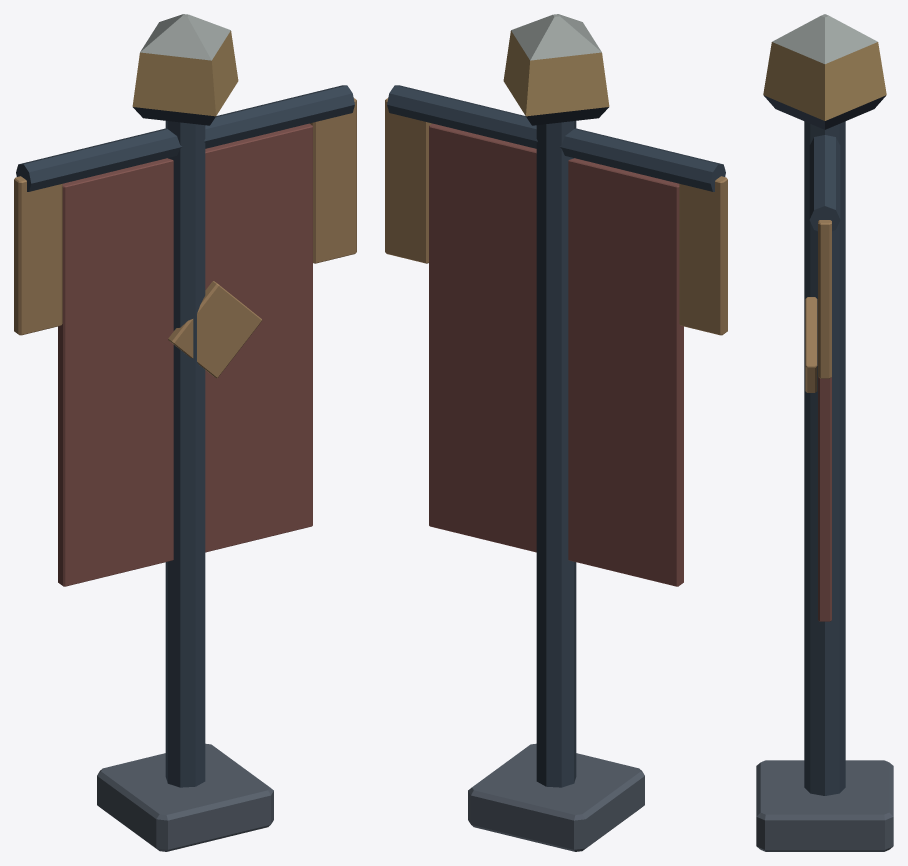
Rendered from victory-standard.glb.
3 renders of one model, left to right at view 1: azimuth 30°, elevation 25°; view 2: azimuth 150°, elevation 25°; view 3: azimuth 270°, elevation 25°, orthographic.
Visible parts, largest first — view 1: victory-standard__body; view 2: victory-standard__body; view 3: victory-standard__body.
Part boxes in pixels (x1=…): victory-standard__body: x1=14, y1=14, x2=356, y2=851; victory-standard__body: x1=385, y1=14, x2=727, y2=851; victory-standard__body: x1=756, y1=14, x2=893, y2=851.
Size of the model in its own units: 1.15 by 2.6 by 0.4.
